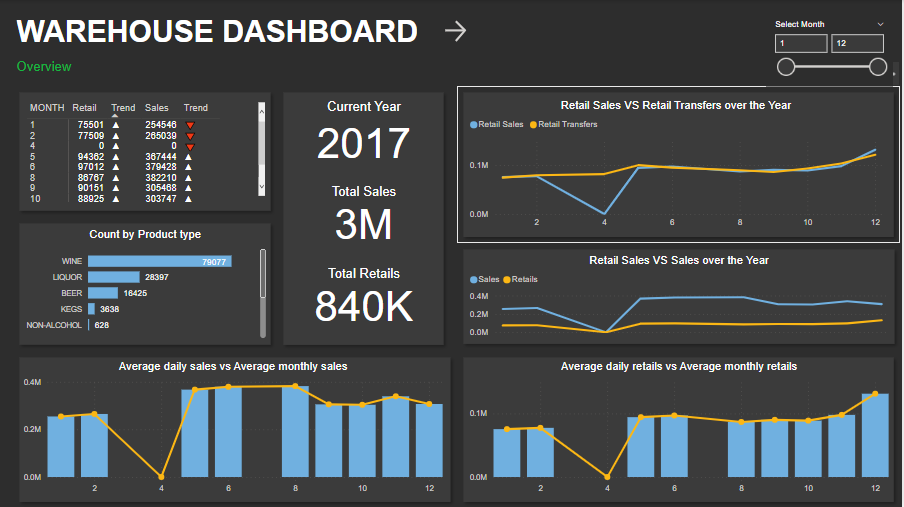

This screenshot's page, from the dashboard's own definition file:
{"tool":"powerbi","page":{"name":"main","canvas":[1280,720],"ordinal":0},"visuals":[{"type":"textbox","box":[21,15,614,63],"z":0},{"type":"textbox","box":[21.3,78,95,32.6],"z":1000},{"type":"shape","box":[21.3,121.9,374.2,185.7],"z":2000},{"type":"shape","box":[21.3,307.6,374.2,189.9],"z":3000},{"type":"shape","box":[21.3,497.5,629.3,222.5],"z":4000},{"type":"shape","box":[395.4,121.9,245.2,375.6],"z":5000},{"type":"shape","box":[651,345,629,152],"z":6000},{"type":"shape","box":[651,497,628,223],"z":7000},{"type":"pivotTable","fields":{"Rows":["WareH.MONTH"],"Values":["Sum(WareH.RETAIL SALES)","WareH.Retail Trend","Sum(WareH.WAREHOUSE SALES)","WareH.WH Trend"]},"box":[36,141,348,151],"z":9000},{"type":"clusteredBarChart","title":"Count by Product type","fields":{"Category":["WareH.ITEM TYPE"],"Y":["CountNonNull(WareH.ITEM TYPE)"]},"box":[32,323,352,161],"z":10000},{"type":"lineStackedColumnComboChart","title":"Average daily sales vs Average monthly sales","fields":{"Category":["WareH.MONTH"],"Y":["Sum(WareH.WAREHOUSE SALES)"],"Y2":["Sum(WareH.WAREHOUSE SALES)"]},"box":[31,510,604,198],"z":11000},{"type":"card","title":"Current Year","fields":{"Values":["Median(WareH.YEAR)"]},"box":[409,141,218,95],"z":12000},{"type":"card","title":"Total Sales","fields":{"Values":["Sum(WareH.WAREHOUSE SALES)"]},"box":[409,261,218,83],"z":13000},{"type":"card","title":"Total Retails","fields":{"Values":["Sum(WareH.RETAIL SALES)"]},"box":[409,377,218,83],"z":14000},{"type":"lineStackedColumnComboChart","title":"Average daily retails vs Average monthly retails","fields":{"Category":["WareH.MONTH"],"Y":["Sum(WareH.RETAIL SALES)"],"Y2":["Sum(WareH.RETAIL SALES)"]},"box":[664,510,604,198],"z":15000},{"type":"shape","box":[650,122,628,223],"z":16000},{"type":"lineChart","title":"Retail Sales VS Retail Transfers over the Year","fields":{"Y":["Sum(WareH.RETAIL SALES)","Sum(WareH.RETAIL TRANSFERS)"],"Category":["WareH.MONTH"]},"box":[664,141,595,191],"z":17000},{"type":"lineChart","title":"Retail Sales VS Sales over the Year","fields":{"Category":["WareH.MONTH"],"Y":["Sum(WareH.WAREHOUSE SALES)","Sum(WareH.RETAIL SALES)"]},"box":[664,360,604,124],"z":18000},{"type":"slicer","fields":{"Values":["WareH.MONTH"]},"box":[1088,22,180,100],"z":19000},{"type":"actionButton","box":[627.9,24.1,78,39.7],"z":19001}]}

Visuals, with their boxes in screenshot pixels (x1, y1, x2, y2), scaled from the page's 1280x720 canvas onto the 904x507 screenshot:
textbox: (x1=15, y1=11, x2=448, y2=55)
textbox: (x1=15, y1=55, x2=82, y2=78)
shape: (x1=15, y1=86, x2=279, y2=217)
shape: (x1=15, y1=217, x2=279, y2=350)
shape: (x1=15, y1=350, x2=459, y2=506)
shape: (x1=279, y1=86, x2=452, y2=350)
shape: (x1=460, y1=243, x2=903, y2=350)
shape: (x1=460, y1=350, x2=903, y2=506)
pivotTable - WareH.MONTH x Sum(WareH.RETAIL SALES): (x1=25, y1=99, x2=271, y2=206)
"Count by Product type" clusteredBarChart: (x1=23, y1=227, x2=271, y2=341)
"Average daily sales vs Average monthly sales" lineStackedColumnComboChart: (x1=22, y1=359, x2=448, y2=499)
"Current Year" card: (x1=289, y1=99, x2=443, y2=166)
"Total Sales" card: (x1=289, y1=184, x2=443, y2=242)
"Total Retails" card: (x1=289, y1=265, x2=443, y2=324)
"Average daily retails vs Average monthly retails" lineStackedColumnComboChart: (x1=469, y1=359, x2=896, y2=499)
shape: (x1=459, y1=86, x2=903, y2=243)
"Retail Sales VS Retail Transfers over the Year" lineChart: (x1=469, y1=99, x2=889, y2=234)
"Retail Sales VS Sales over the Year" lineChart: (x1=469, y1=254, x2=896, y2=341)
slicer - WareH.MONTH: (x1=768, y1=15, x2=896, y2=86)
actionButton: (x1=443, y1=17, x2=499, y2=45)
